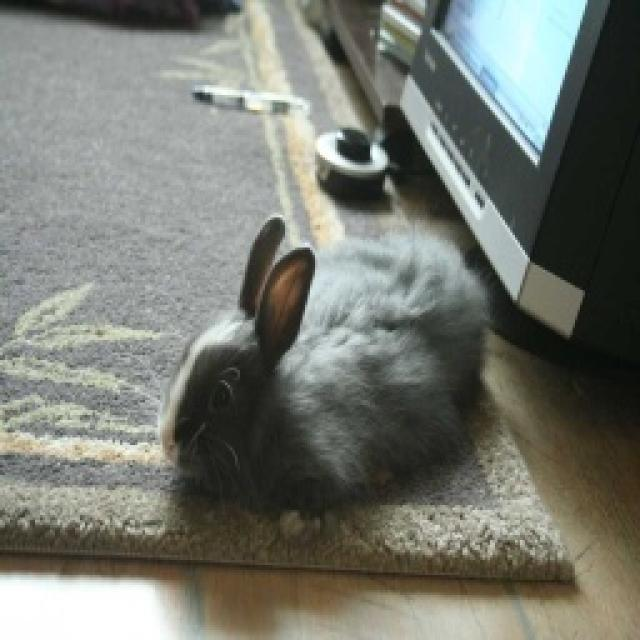not_pig: (152, 211, 492, 529)
